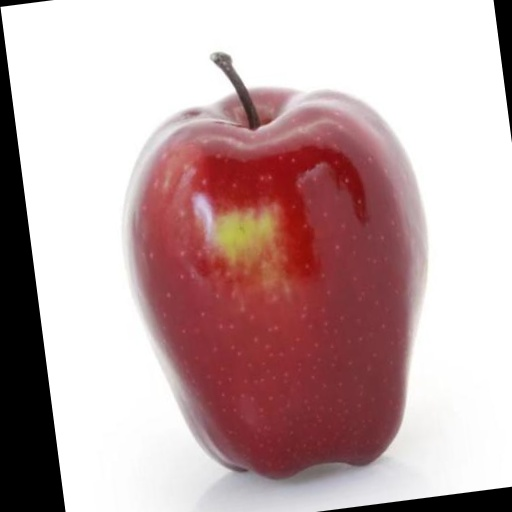fruit: (124, 53, 426, 478)
